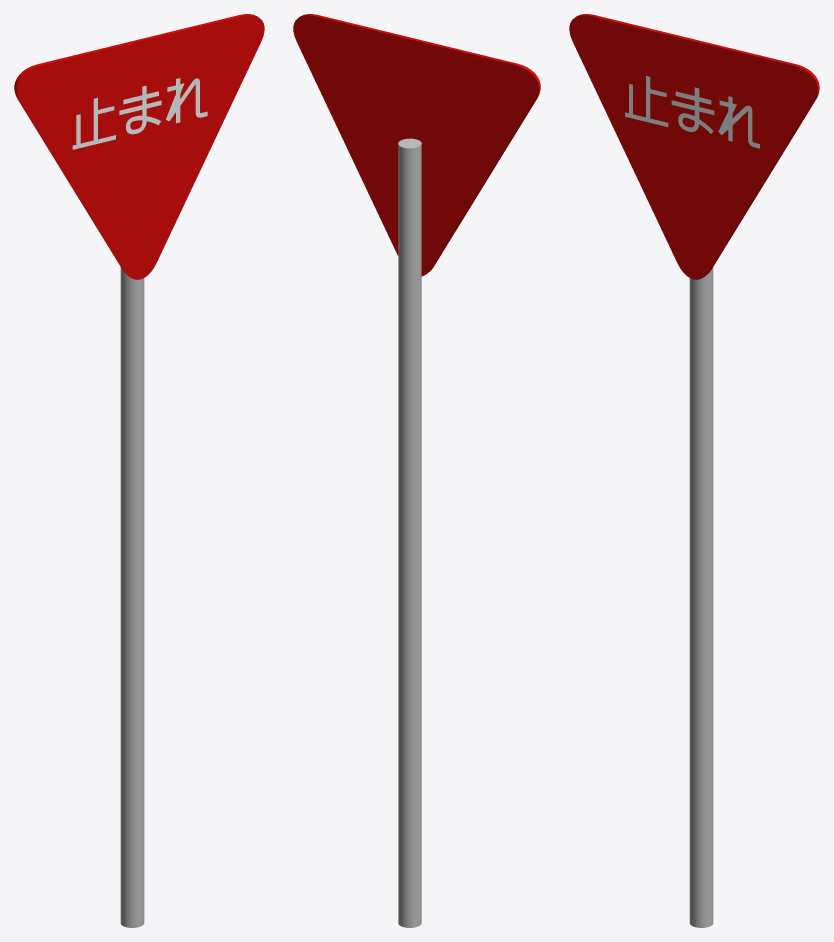
Rendered from stopsign.obj.
3 views of the same model, side by side, from view 1: azimuth 30°, elevation 25°; view 2: azimuth 150°, elevation 25°; view 3: azimuth 330°, elevation 25° (orthographic).
Parts seen in each view (by area): view 1: Cube_Cube.002, Cylinder, Text; view 2: Cube_Cube.002, Cylinder; view 3: Cube_Cube.002, Cylinder, Text.
Boxes of the visible parts, x1,y1,x2,y2 form: Cube_Cube.002: [14, 14, 264, 279]; Cylinder: [120, 267, 144, 927]; Text: [72, 78, 207, 149]; Cube_Cube.002: [293, 14, 540, 276]; Cylinder: [398, 138, 421, 927]; Cube_Cube.002: [569, 14, 819, 279]; Cylinder: [689, 267, 713, 927]; Text: [625, 76, 759, 148].
Bounding box in the file's own units: 0.7251 × 2.48 × 0.0725.
